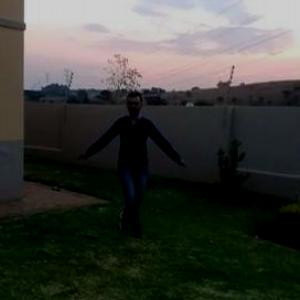land: (84, 81, 191, 241)
